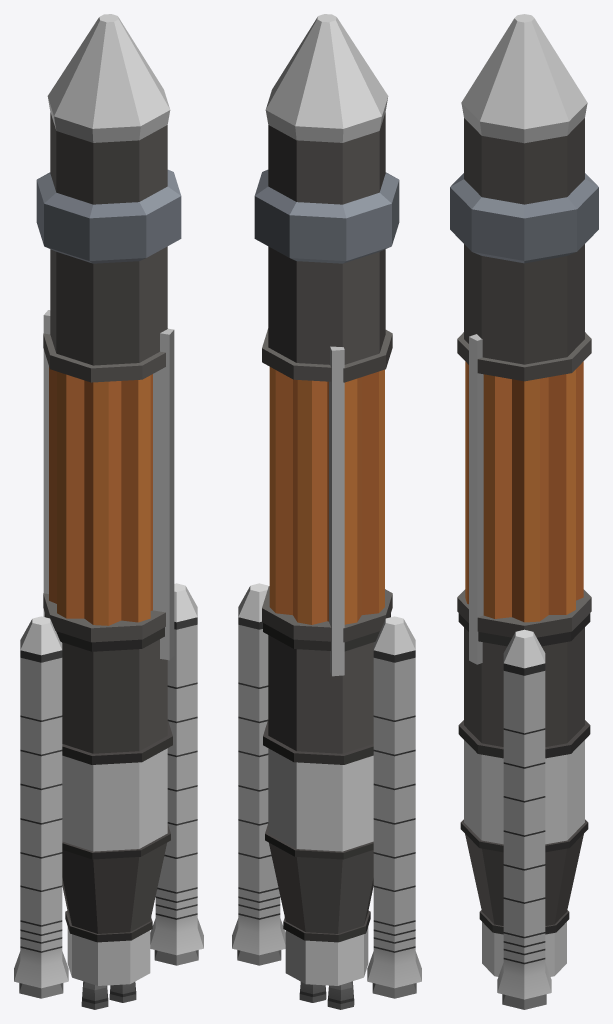
The model's file is SM_Veh_Rocket_11.fbx.
The picture shows the model from 3 angles, left to right: view 1: azimuth 30°, elevation 25°; view 2: azimuth 150°, elevation 25°; view 3: azimuth 270°, elevation 25°; orthographic projection.
Parts seen in each view (by area): view 1: SM_Veh_Rocket_11; view 2: SM_Veh_Rocket_11; view 3: SM_Veh_Rocket_11.
Boxes of the visible parts, box(x1,y1,x2,y2) form: SM_Veh_Rocket_11: box(14, 14, 203, 1009); SM_Veh_Rocket_11: box(232, 14, 421, 1009); SM_Veh_Rocket_11: box(450, 14, 598, 1009).
Bounding box in the file's own units: 3.73 × 18.41 × 2.55.
